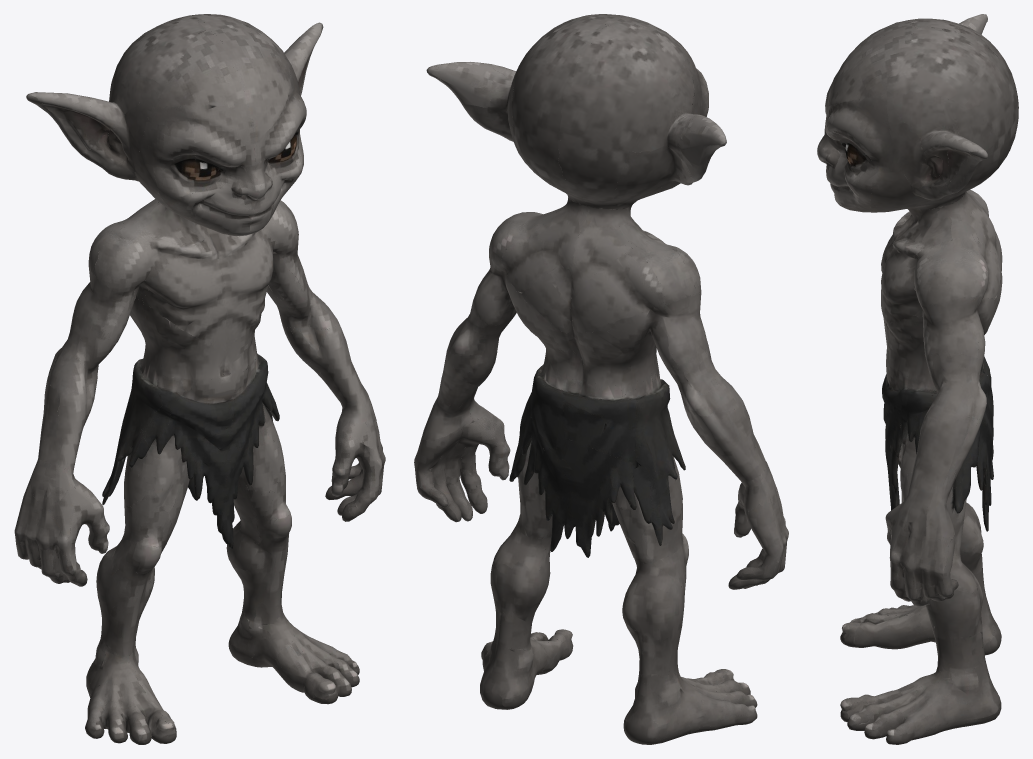
File: goblin.glb
The picture shows the model from 3 angles, left to right: view 1: azimuth 30°, elevation 25°; view 2: azimuth 150°, elevation 25°; view 3: azimuth 270°, elevation 25°; orthographic projection. The views are drawn at different scales.
Visible parts, largest first — view 1: Mesh_0; view 2: Mesh_0; view 3: Mesh_0.
Boxes of the visible parts, left/top/right/bottom form: Mesh_0: left=14, top=14, right=385, bottom=744; Mesh_0: left=414, top=14, right=788, bottom=744; Mesh_0: left=817, top=14, right=1018, bottom=744.
Size of the model in its own units: 1.08 by 1.9 by 0.5325.
Materials: 1 (1 with a texture image).
